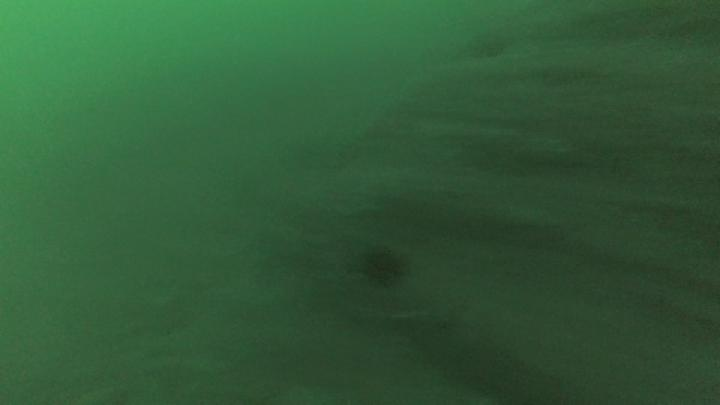echinus: (358, 243, 410, 288)
